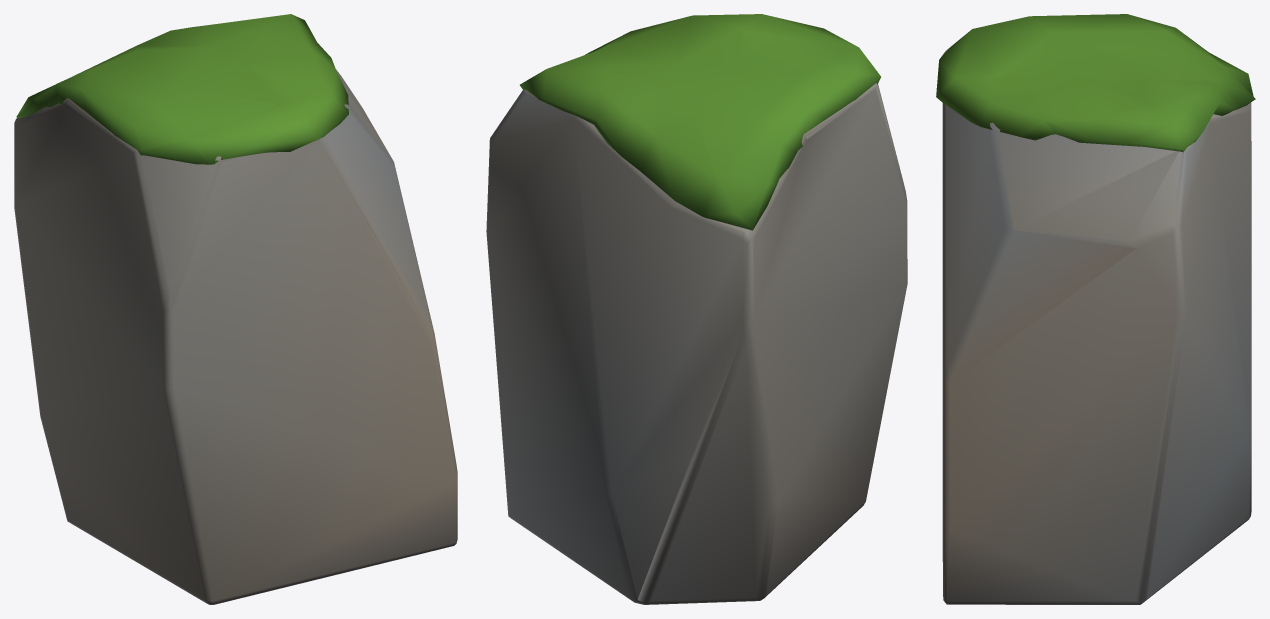
Rendered from grotto_rock_c_lod2.glb.
3 views of the same model, side by side, from view 1: azimuth 30°, elevation 25°; view 2: azimuth 150°, elevation 25°; view 3: azimuth 270°, elevation 25° (orthographic). The views are drawn at different scales.
Visible parts, largest first — view 1: grotto_rock_c.001, moss.001; view 2: grotto_rock_c.001, moss.001; view 3: grotto_rock_c.001, moss.001.
Boxes of the visible parts, box(x1,y1,x2,y2) form: grotto_rock_c.001: box(14, 69, 457, 604); moss.001: box(16, 14, 348, 164); grotto_rock_c.001: box(486, 83, 907, 604); moss.001: box(520, 14, 880, 230); grotto_rock_c.001: box(942, 50, 1251, 604); moss.001: box(936, 14, 1255, 152).
Bounding box in the file's own units: 2.6 × 3.93 × 2.48.
